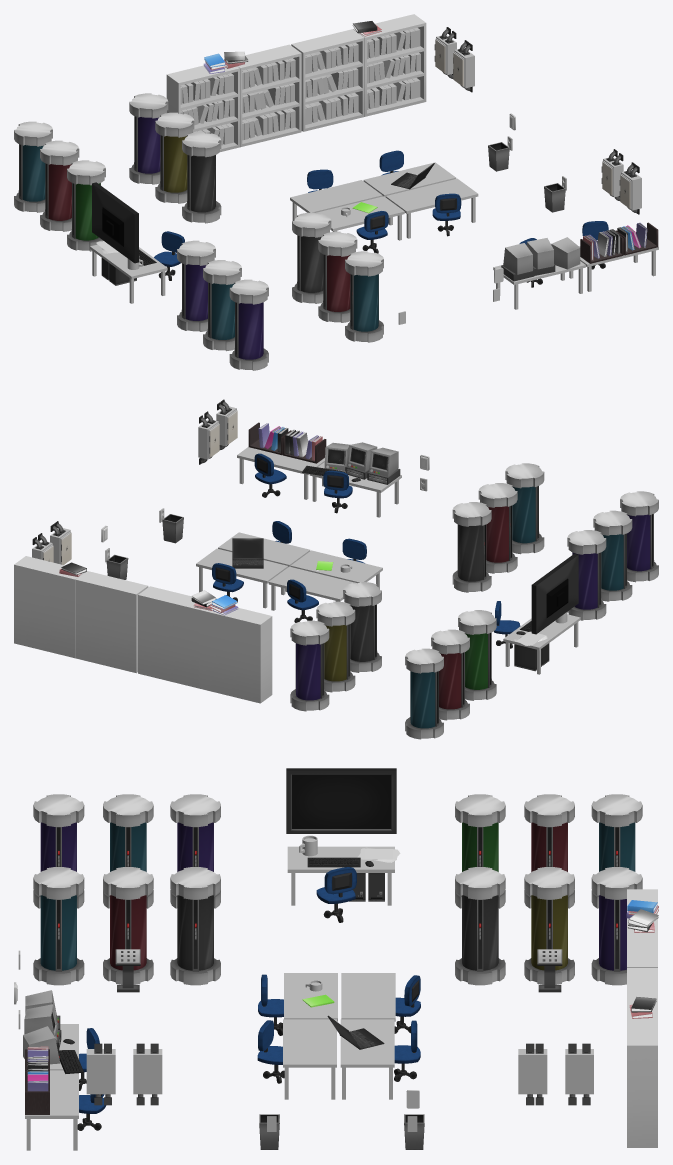
Rendered from Room05Set2.FBX.
3 renders of one model, top to bottom at view 1: azimuth 30°, elevation 25°; view 2: azimuth 150°, elevation 25°; view 3: azimuth 270°, elevation 25°, orthographic. The views are drawn at different scales.
Visible parts, largest first — view 1: Books018, Books019, Books016, bookshelf042, object017, object024, object022, object021, bookshelf039, object023, object018, bookshelf041 (+24 smaller); view 2: bookshelf040, bookshelf042, bookshelf039, bookshelf041, object025, object026, object020, object022, object017, object023, object024, object019 (+23 smaller); view 3: moniter0 003, object022, object026, object024, object021, object023, bookshelf041, object025, object017, object018, object6, object016 (+30 smaller).
Part boxes in pixels (x1,y1,x2,y2): Books018: (367,27,420,109); Books019: (305,43,358,124); Books016: (242,58,295,140); bookshelf042: (291,29,364,131); object017: (229,279,268,370); object024: (182,132,221,223); object022: (345,251,383,342); object021: (318,231,357,322); bookshelf039: (237,44,301,147); object023: (155,112,194,203); object018: (40,140,79,231); bookshelf041: (353,14,426,116); bookshelf040: (199,607,272,703); bookshelf042: (75,571,148,673); bookshelf039: (138,586,200,688); bookshelf041: (14,556,84,658); object025: (290,620,329,711); object026: (452,502,491,592); object020: (405,648,443,739); object022: (505,463,544,554); object017: (620,491,658,582); object023: (316,601,355,692); object024: (343,582,381,672); object019: (458,610,496,700); moniter0 003: (286,768,396,833); object022: (33,867,84,985); object026: (170,867,220,985); object024: (455,867,505,985); object021: (103,867,153,984); object023: (524,867,574,984); bookshelf041: (627,1007,657,1147); object025: (591,867,642,985); object017: (33,794,84,908); object018: (524,794,574,908); object6: (170,794,220,908); object016: (103,794,153,908).
Bounding box in the file's own units: 119 × 24.25 × 119.
